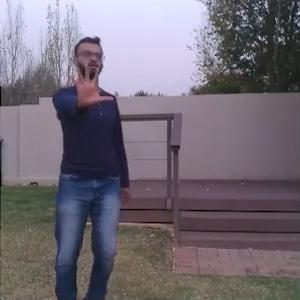follow_hand: (66, 60, 116, 108)
